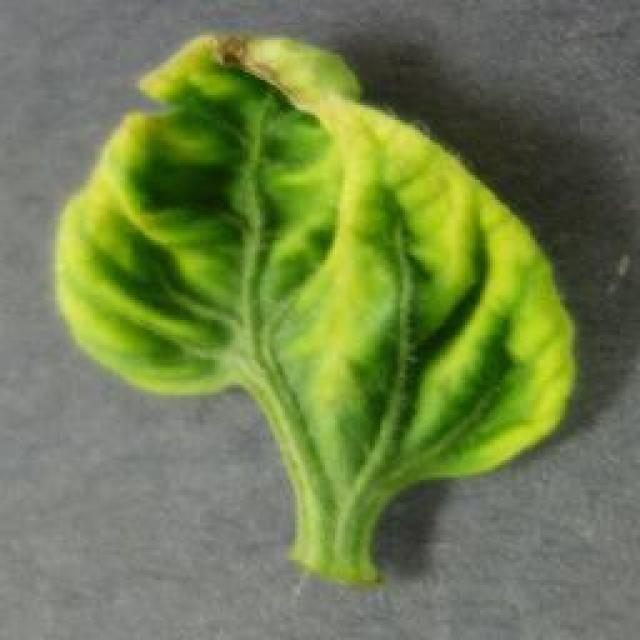Tomato yellow virus leaf: (44, 21, 594, 599)
